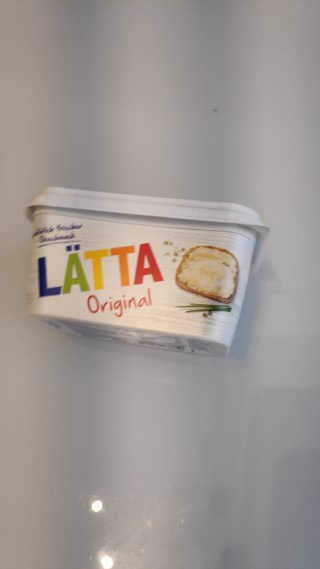laetta: (21, 182, 270, 359)
